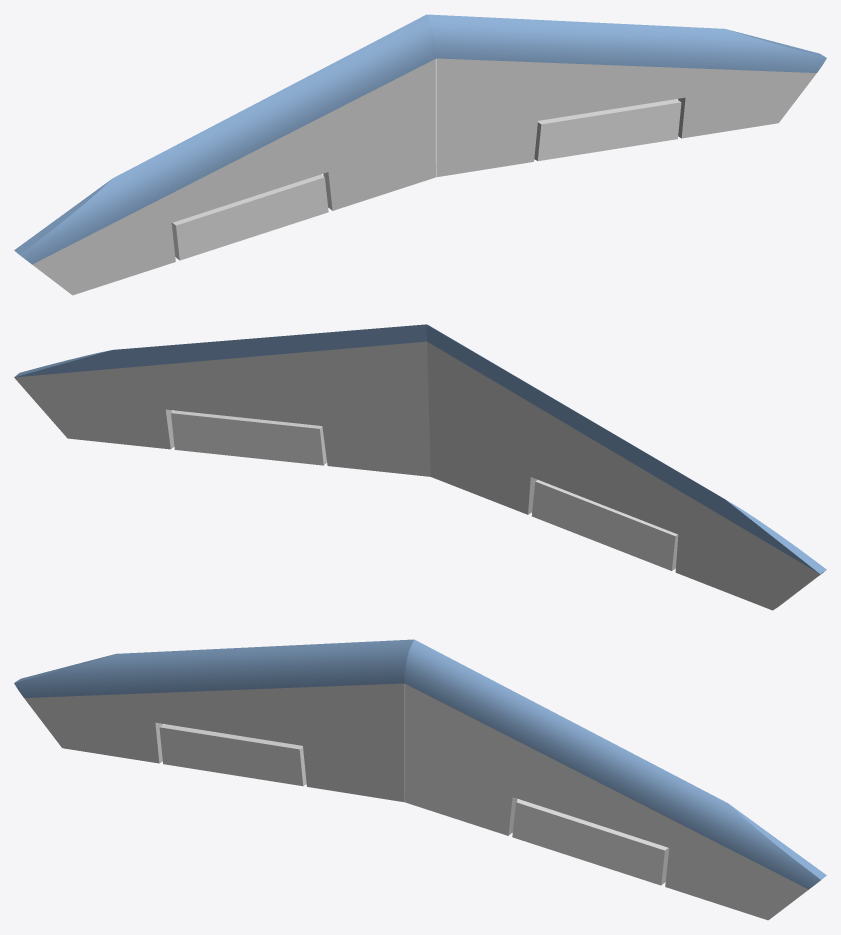
File: glider.obj
3 renders of one model, top to bottom at view 1: azimuth 30°, elevation 25°; view 2: azimuth 150°, elevation 25°; view 3: azimuth 330°, elevation 25°, orthographic.
Visible parts, largest first — view 1: mesh10, mesh49, mesh40, mesh17, mesh32, mesh26, mesh27, mesh21, mesh38; view 2: mesh50, mesh11, mesh18, mesh41, mesh25, mesh31, mesh38, mesh21; view 3: mesh49, mesh10, mesh17, mesh40, mesh26, mesh32, mesh21, mesh27, mesh16.
Boxes of the visible parts, x1,y1,x2,y2 form: mesh10: (32,59,435,295); mesh49: (437,58,816,176); mesh40: (20,14,435,264); mesh17: (426,14,826,72); mesh32: (176,177,328,260); mesh26: (537,102,681,161); mesh27: (173,174,324,225); mesh21: (538,99,680,124); mesh38: (14,179,111,254); mesh50: (14,341,430,476); mesh11: (427,342,819,610); mesh18: (15,324,426,377); mesh41: (426,325,818,572); mesh25: (171,413,323,465); mesh31: (531,481,675,570); mesh38: (726,500,826,573); mesh21: (171,410,322,428); mesh49: (405,684,808,920); mesh10: (24,683,403,801); mesh17: (405,639,820,889); mesh40: (14,639,414,697); mesh26: (512,802,664,885); mesh32: (159,727,303,786); mesh21: (516,799,667,850); mesh27: (160,724,302,749); mesh16: (729,804,826,879).
Size of the model in its own units: 0.1071 by 0.0248 by 0.00443.
